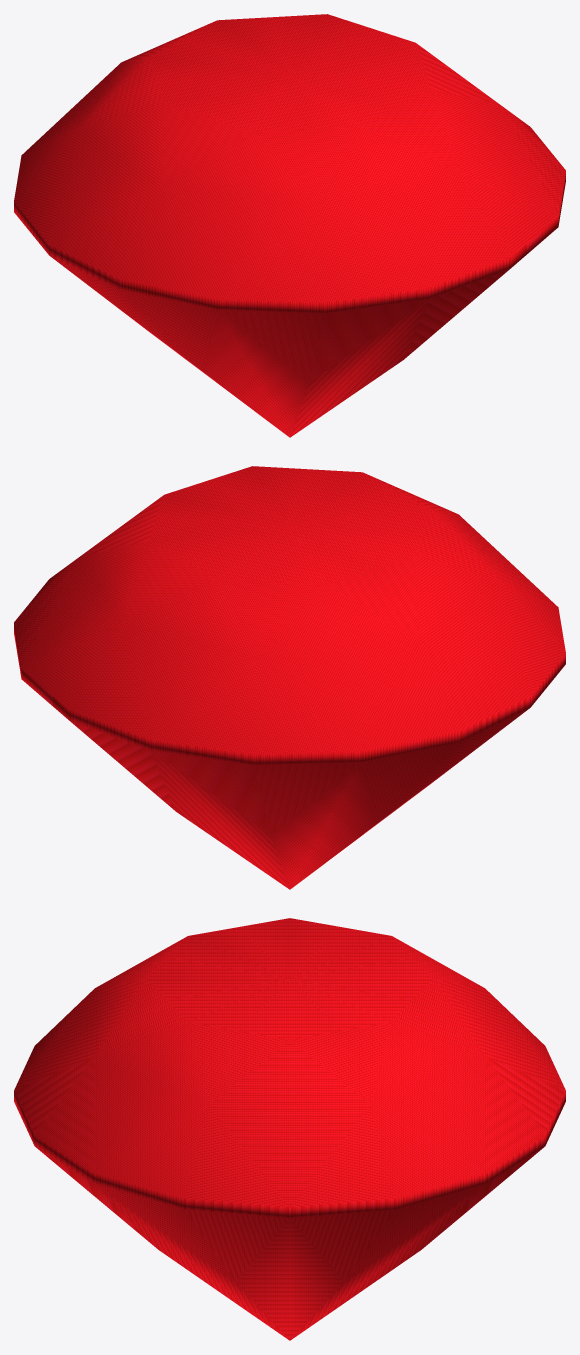
The model's file is ruby.fbx.
3 views of the same model, one above another, from view 1: azimuth 30°, elevation 25°; view 2: azimuth 150°, elevation 25°; view 3: azimuth 270°, elevation 25° (orthographic).
Visible parts, largest first — view 1: Diamond_C__33_; view 2: Diamond_C__33_; view 3: Diamond_C__33_.
Boxes of the visible parts, left/top/right/bottom form: Diamond_C__33_: left=14, top=14, right=565, bottom=437; Diamond_C__33_: left=14, top=466, right=565, bottom=889; Diamond_C__33_: left=14, top=918, right=565, bottom=1340.
Size of the model in its own units: 266 by 193 by 266.
